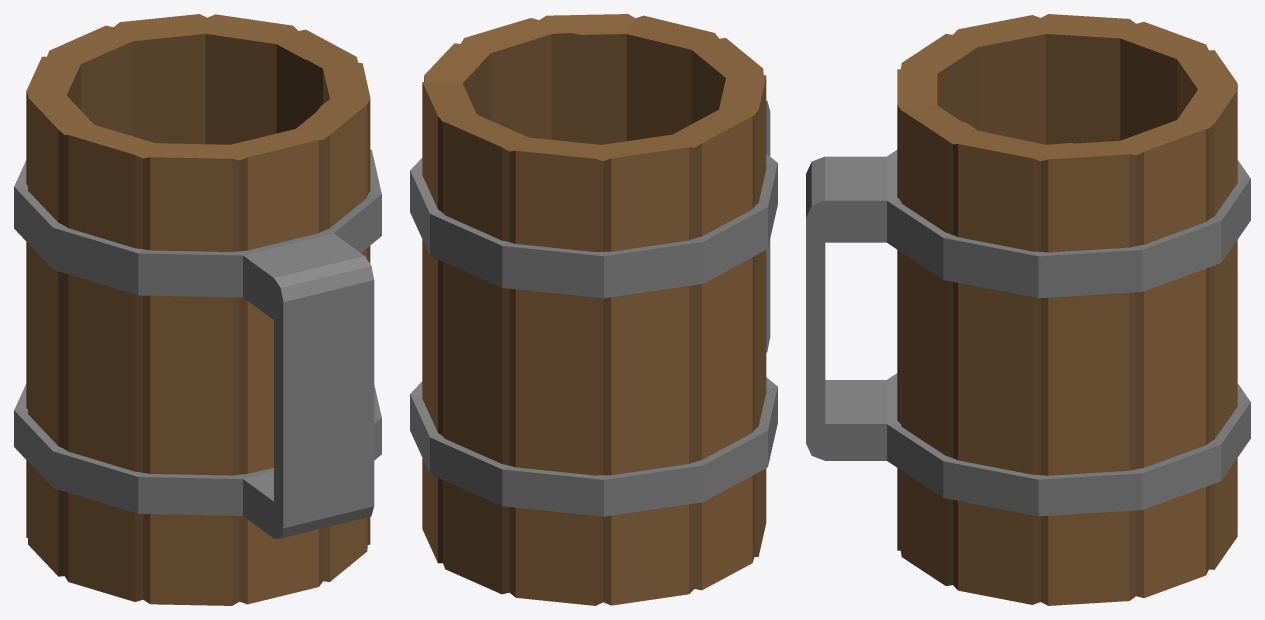
Rendered from ølkrus.glb.
3 views of the same model, side by side, from view 1: azimuth 30°, elevation 25°; view 2: azimuth 150°, elevation 25°; view 3: azimuth 270°, elevation 25° (orthographic).
Parts seen in each view (by area): view 1: Cylinder, Circle; view 2: Cylinder, Circle; view 3: Cylinder, Circle.
Boxes of the visible parts, box(x1,y1,x2,y2) form: Cylinder: box(26, 14, 370, 605); Circle: box(14, 149, 381, 538); Cylinder: box(422, 14, 766, 605); Circle: box(410, 101, 777, 516); Cylinder: box(897, 14, 1237, 605); Circle: box(806, 150, 1250, 516).
Bounding box in the file's own units: 1.49 × 2 × 1.8.
